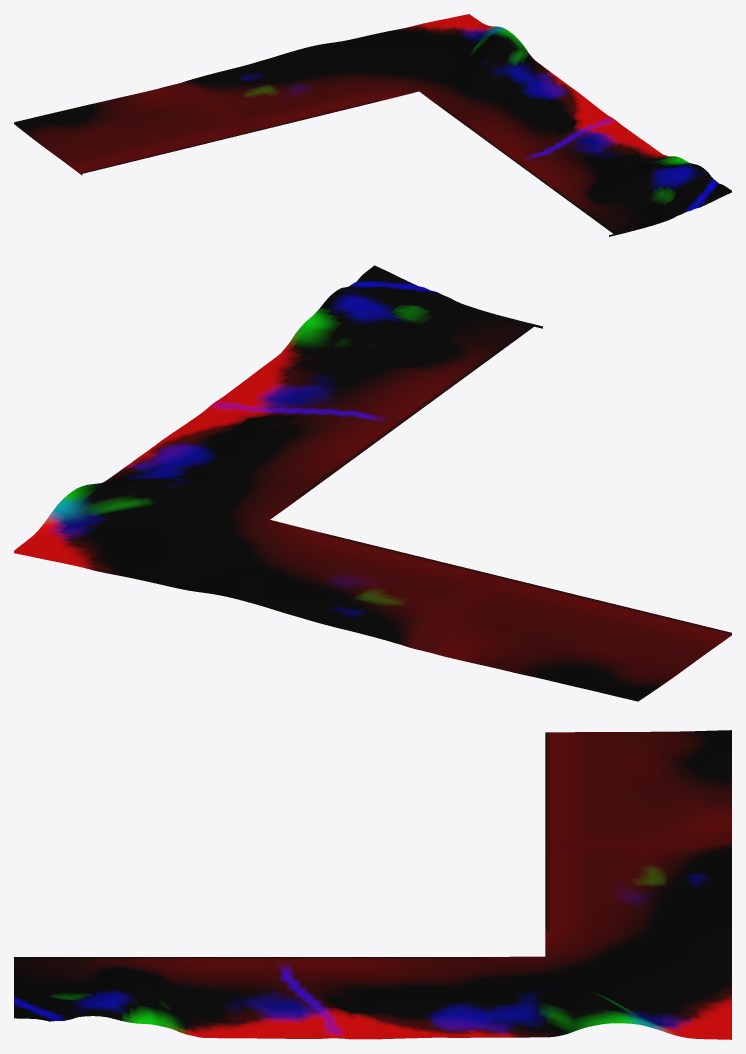
The model's file is coast_0_-400_400.glb.
3 views of the same model, one above another, from view 1: azimuth 30°, elevation 25°; view 2: azimuth 150°, elevation 25°; view 3: azimuth 270°, elevation 25° (orthographic). The views are drawn at different scales.
Parts seen in each view (by area): view 1: terrain; view 2: terrain; view 3: terrain.
Part boxes in pixels (x1,y1,x2,y2): terrain: (14,14,731,236); terrain: (14,265,731,701); terrain: (14,730,731,1039).
Size of the model in its own units: 400 by 16.12 by 400.
